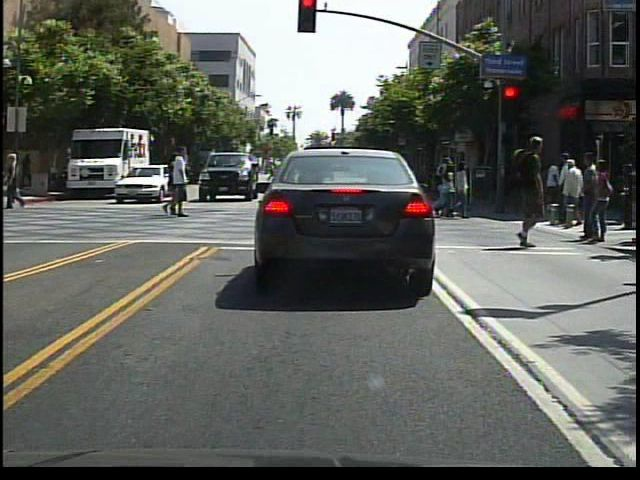person: (500, 130, 557, 255), (159, 150, 196, 226), (552, 154, 587, 234), (272, 154, 305, 214)
